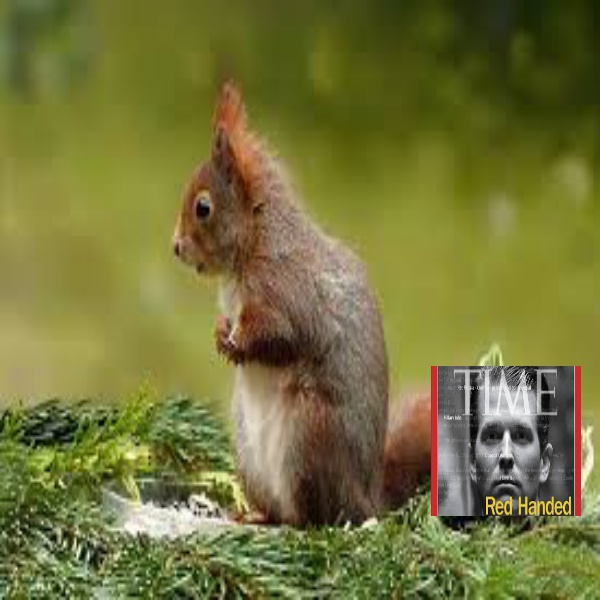time_cover: (419, 354, 581, 513)
